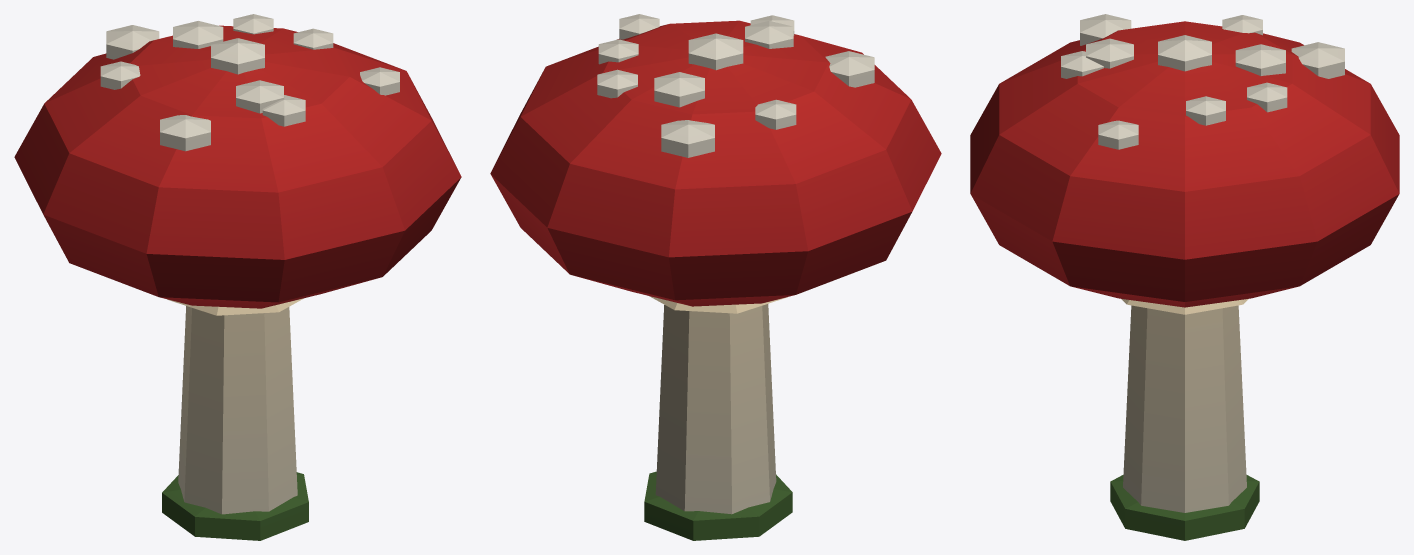
The model's file is toadstool_big.glb.
The picture shows the model from 3 angles, left to right: view 1: azimuth 30°, elevation 25°; view 2: azimuth 150°, elevation 25°; view 3: azimuth 270°, elevation 25°; orthographic projection.
Parts seen in each view (by area): view 1: toadstool_big; view 2: toadstool_big; view 3: toadstool_big.
Part boxes in pixels (x1,y1,x2,y2): toadstool_big: [14, 14, 461, 540]; toadstool_big: [490, 14, 941, 540]; toadstool_big: [970, 14, 1399, 540].
Size of the model in its own units: 2.3 by 2.69 by 2.19.
